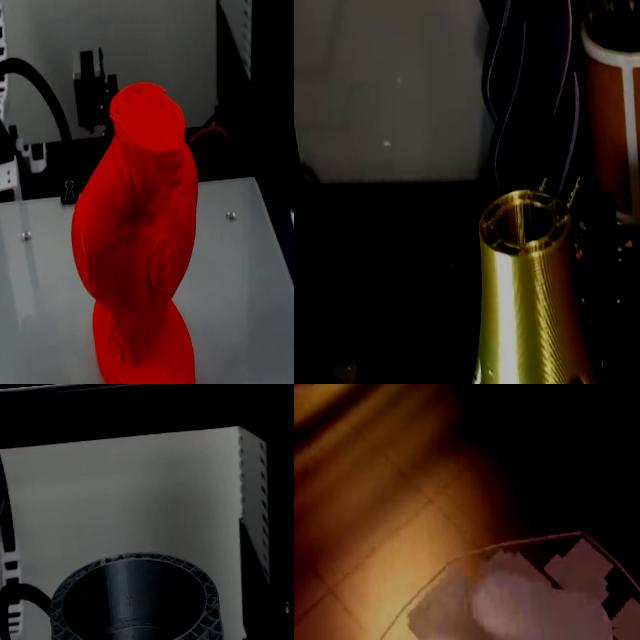spaghetti: (534, 155, 588, 216)
